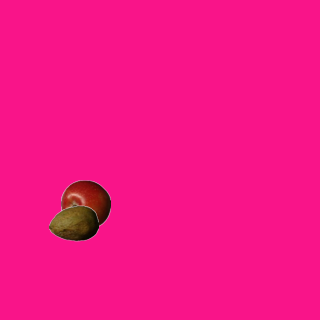Apple Braeburn: (60, 179, 110, 229)
Papaya: (48, 198, 98, 248)
